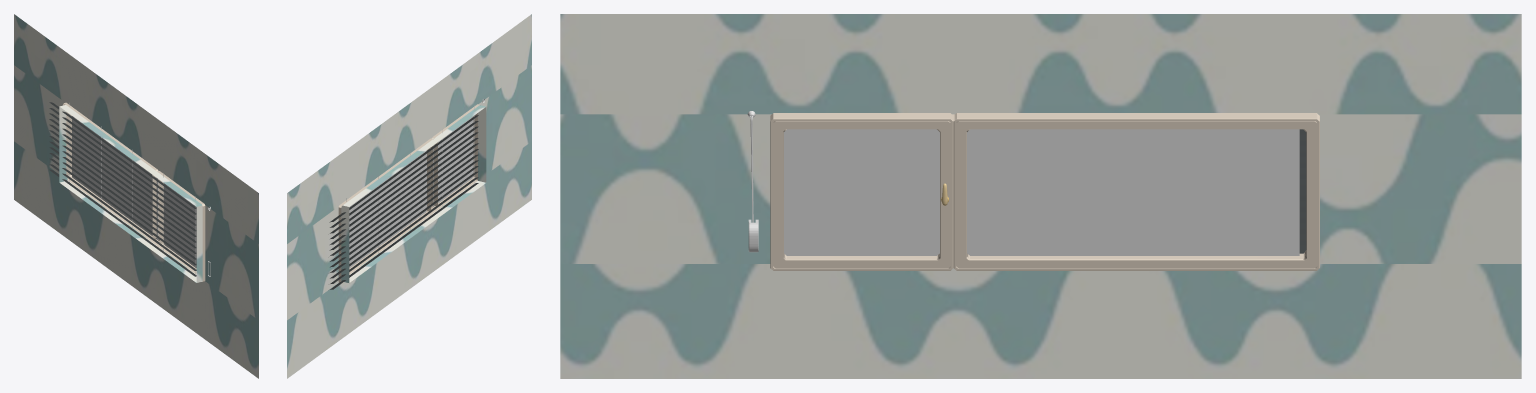
The model's file is Window_nib_v03.fbx.
The picture shows the model from 3 angles, left to right: view 1: azimuth 30°, elevation 25°; view 2: azimuth 150°, elevation 25°; view 3: azimuth 270°, elevation 25°; orthographic projection. The views are drawn at different scales.
Visible parts, largest first — view 1: WallwithWindow, Plane.002, WindowGlass, Window, Windowstoren; view 2: WallwithWindow, Plane.002, WindowGlass, Window; view 3: WallwithWindow, WindowGlass, Window, Plane.002.
Part boxes in pixels (x1,y1,x2,y2): WallwithWindow: [14, 14, 258, 378]; Plane.002: [49, 102, 196, 276]; WindowGlass: [72, 116, 196, 268]; Window: [63, 102, 205, 281]; Windowstoren: [69, 103, 195, 274]; WallwithWindow: [287, 14, 531, 378]; Plane.002: [329, 115, 478, 289]; WindowGlass: [349, 116, 473, 268]; Window: [338, 104, 480, 283]; WallwithWindow: [560, 14, 1521, 378]; WindowGlass: [784, 129, 1299, 255]; Window: [770, 113, 1319, 270]; Plane.002: [1299, 129, 1306, 253].
Bounding box in the file's own units: 37.53 × 360 × 860.
